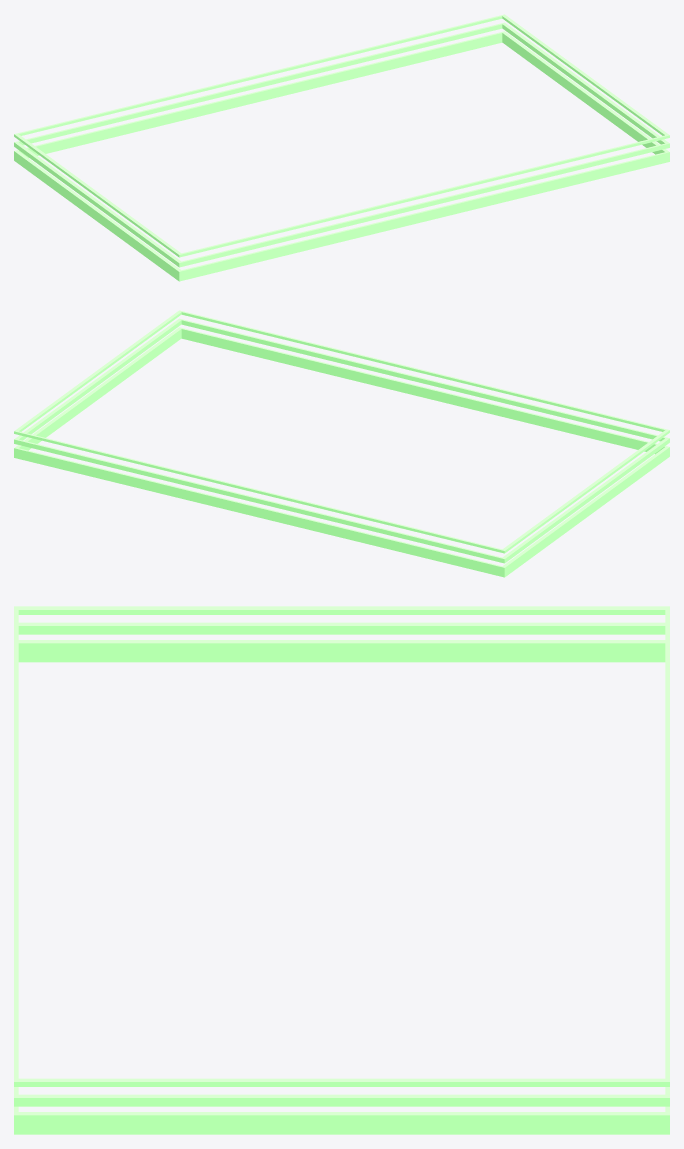
File: JoinArea01.glb
The picture shows the model from 3 angles, top to bottom: view 1: azimuth 30°, elevation 25°; view 2: azimuth 150°, elevation 25°; view 3: azimuth 270°, elevation 25°; orthographic projection. The views are drawn at different scales.
Visible parts, largest first — view 1: JoinArea01; view 2: JoinArea01; view 3: JoinArea01.
Part boxes in pixels (x1,y1,x2,y2): JoinArea01: (14, 14, 669, 281); JoinArea01: (14, 310, 669, 577); JoinArea01: (14, 606, 669, 1134).
Bounding box in the file's own units: 10.3 × 0.5315 × 6.01.
